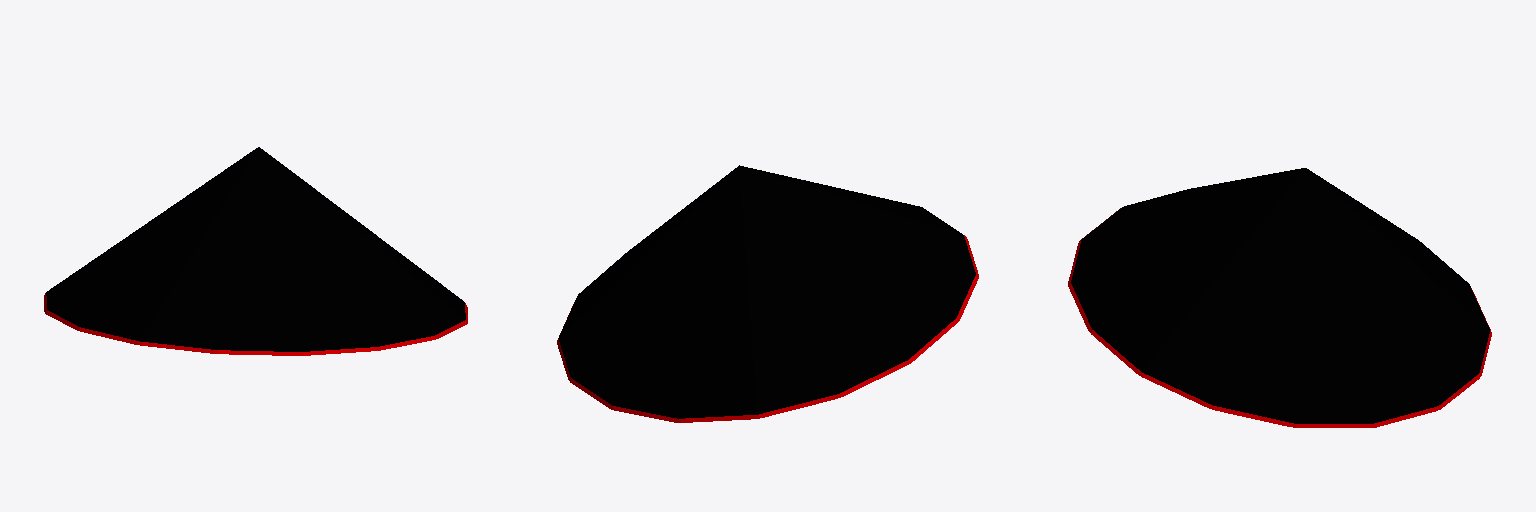
File: ninjahat_basic.sgm.obj
3 renders of one model, left to right at view 1: azimuth 30°, elevation 25°; view 2: azimuth 150°, elevation 25°; view 3: azimuth 270°, elevation 25°, orthographic.
Visible parts, largest first — view 1: 0, 1; view 2: 0, 1; view 3: 0, 1.
Boxes of the visible parts, box(x1,y1,x2,y2) form: 0: box(46, 147, 465, 351); 1: box(44, 293, 467, 355); 0: box(558, 165, 975, 418); 1: box(557, 235, 978, 422); 0: box(1071, 168, 1489, 423); 1: box(1068, 208, 1491, 427).
Size of the model in its own units: 0.7142 by 0.3555 by 0.7104.